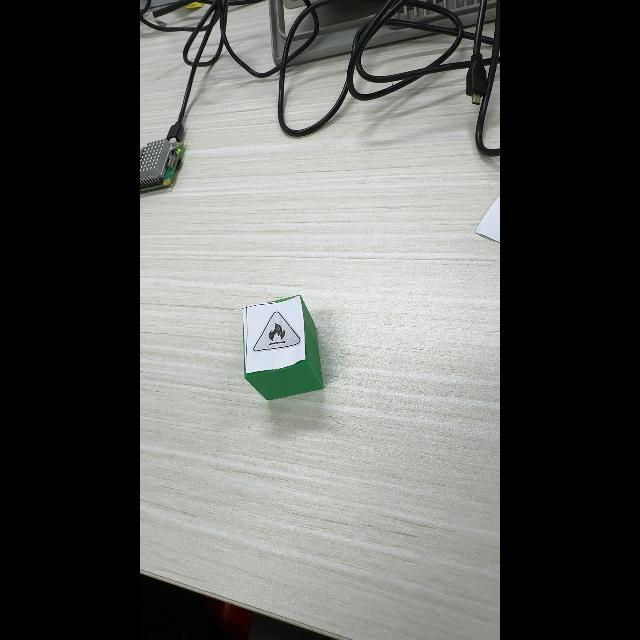Fire: (253, 311, 300, 352)
